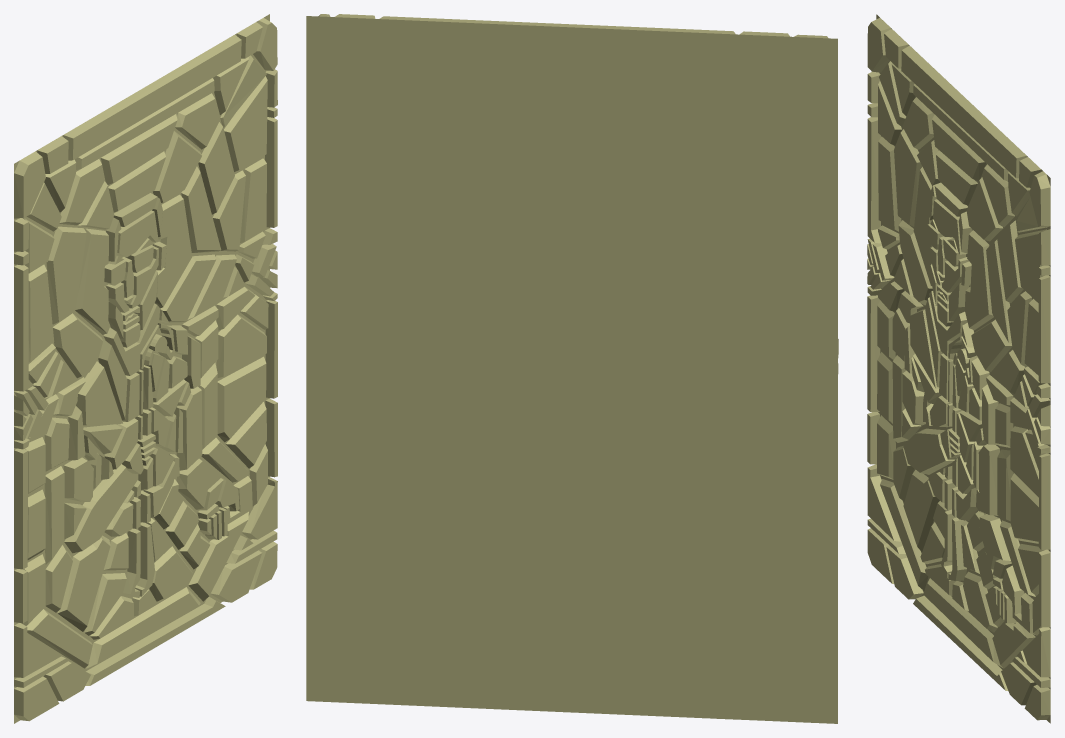
The model's file is freeman.gltf.
3 renders of one model, left to right at view 1: azimuth 30°, elevation 25°; view 2: azimuth 150°, elevation 25°; view 3: azimuth 270°, elevation 25°, orthographic. The views are drawn at different scales.
Parts seen in each view (by area): view 1: Object_2; view 2: Object_2; view 3: Object_2.
Part boxes in pixels (x1,y1,x2,y2): Object_2: (14,14,277,723); Object_2: (306,14,838,723); Object_2: (867,14,1050,723).
Size of the model in its own units: 10.12 by 15.54 by 4.74.
